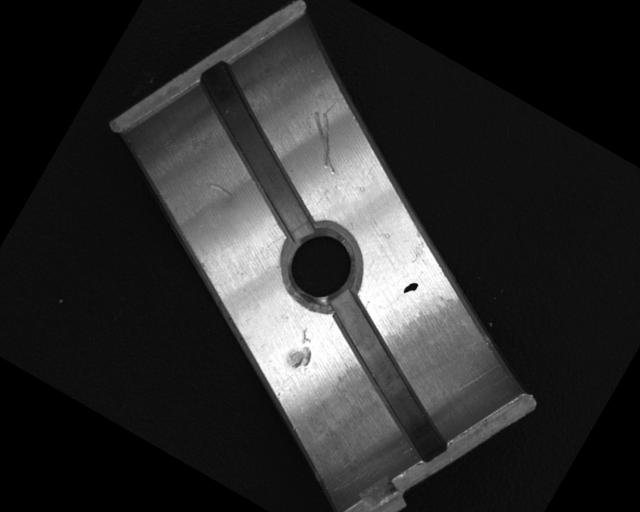blot: (401, 278, 419, 298)
bruise: (282, 325, 325, 376)
gap: (151, 56, 361, 246), (287, 288, 490, 468)
hole: (266, 210, 374, 318)
nick: (291, 106, 359, 176), (206, 178, 236, 201)
